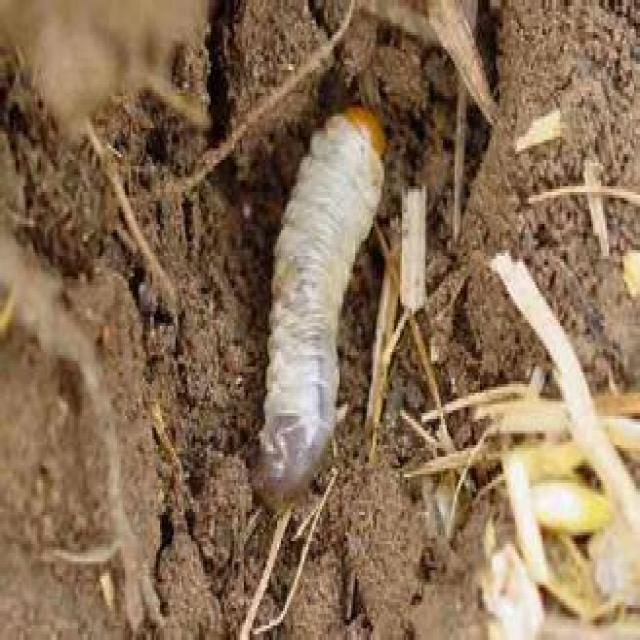Grub-Adult-: (228, 97, 407, 495)
